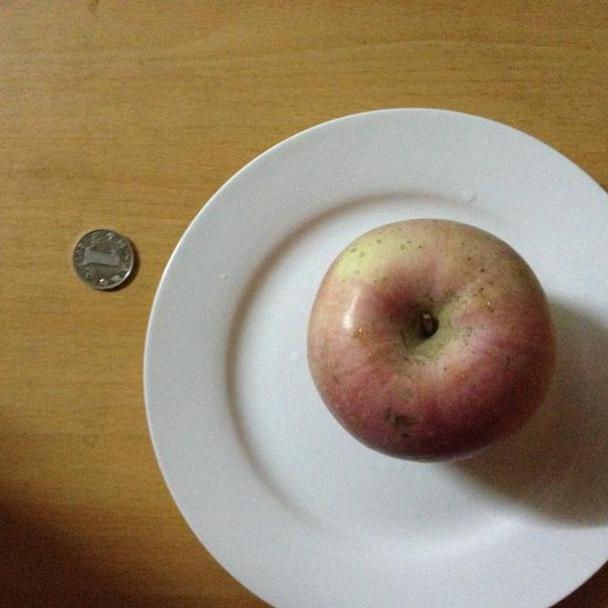apple: (305, 220, 558, 465)
